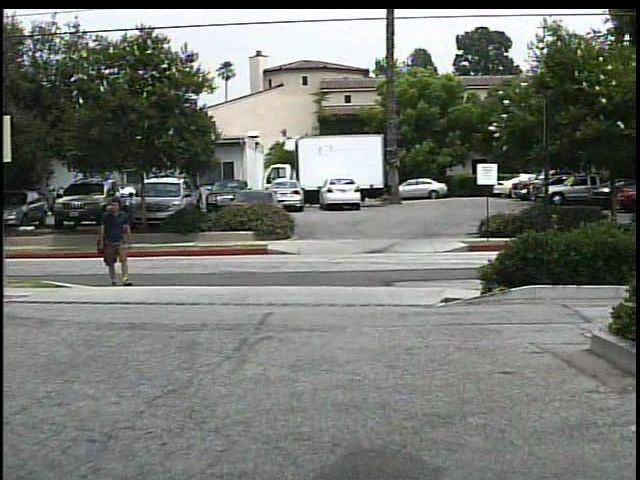person: (97, 195, 138, 287)
